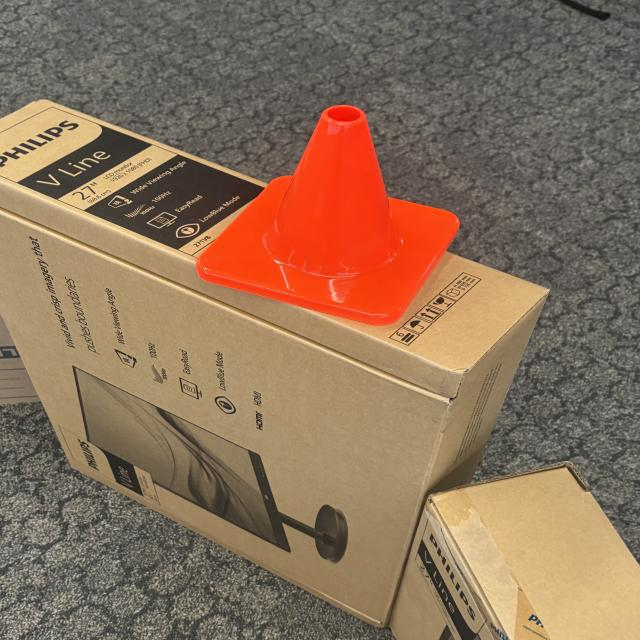Traffic Cone: (188, 102, 468, 325)
